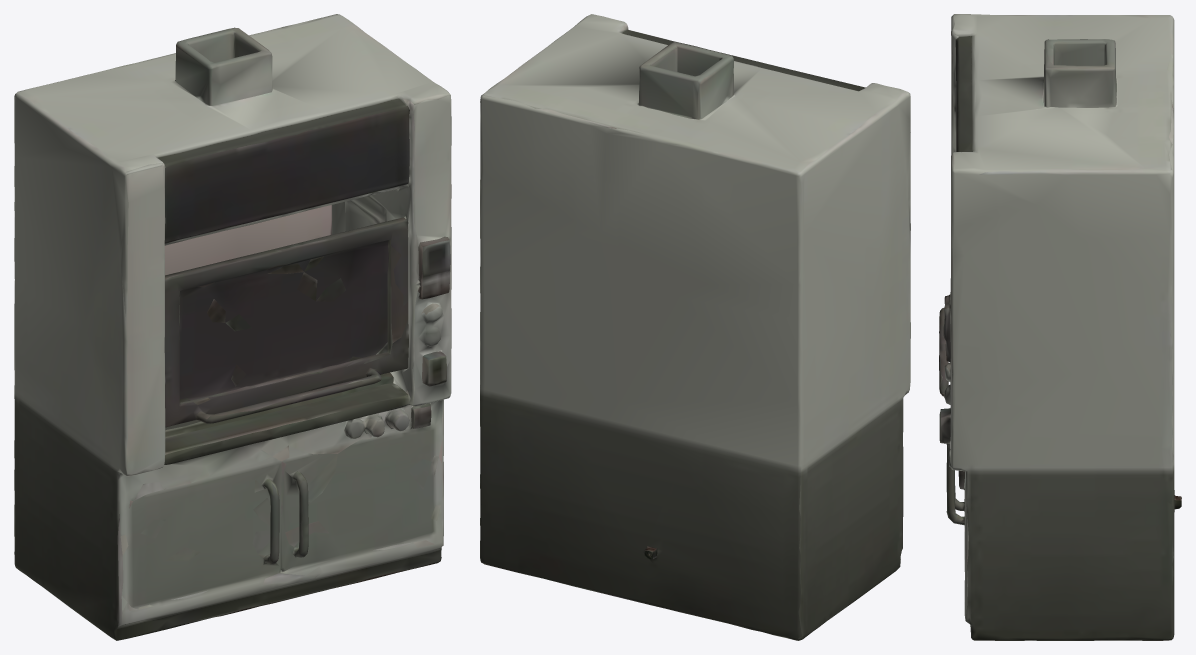
Rendered from fume_hood.glb.
3 views of the same model, side by side, from view 1: azimuth 30°, elevation 25°; view 2: azimuth 150°, elevation 25°; view 3: azimuth 270°, elevation 25° (orthographic).
Visible parts, largest first — view 1: geometry_0; view 2: geometry_0; view 3: geometry_0.
Boxes of the visible parts, x1,y1,x2,y2 form: geometry_0: [14, 14, 451, 640]; geometry_0: [480, 14, 910, 640]; geometry_0: [939, 14, 1181, 640].
Bounding box in the file's own units: 0.6665 × 1 × 0.4326.
1 material, 1 textured.
